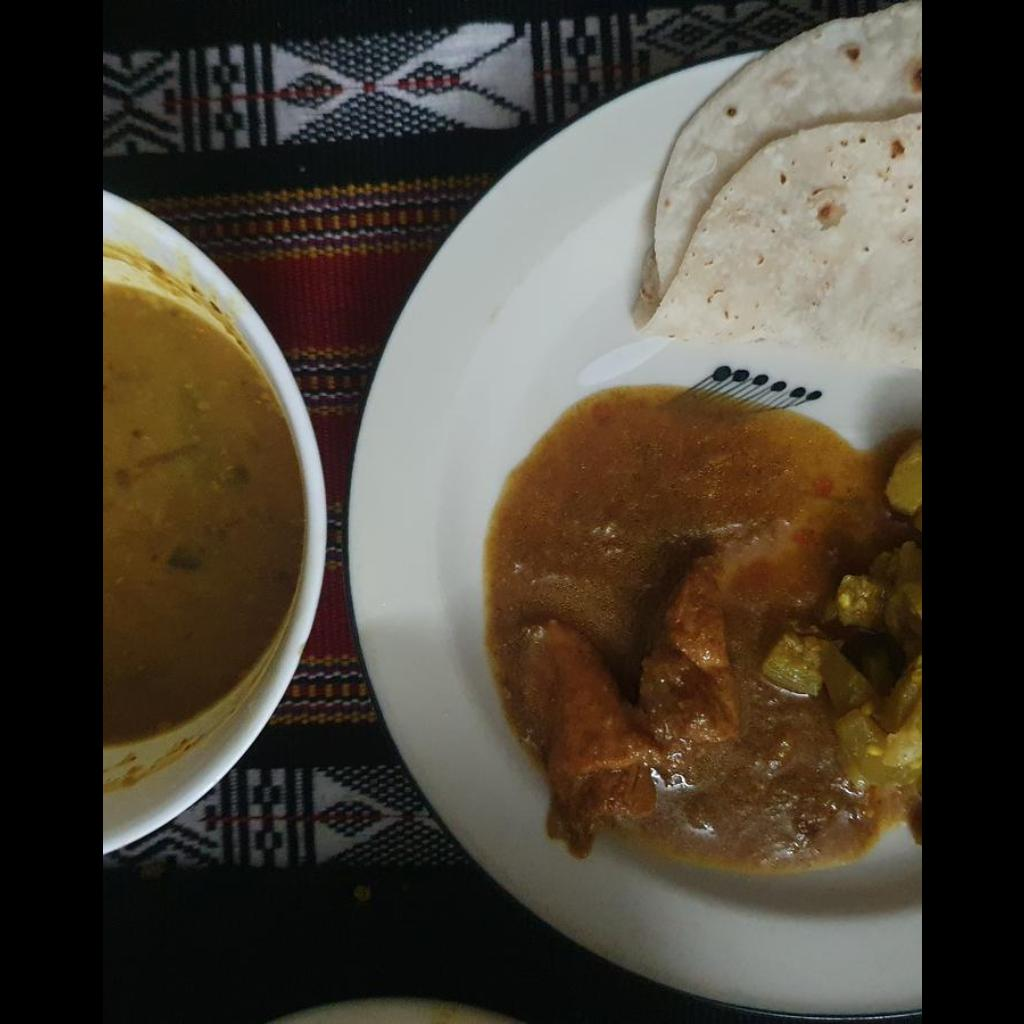chicken: (490, 390, 854, 857)
daal: (102, 288, 306, 747)
ruti: (630, 6, 920, 369)
